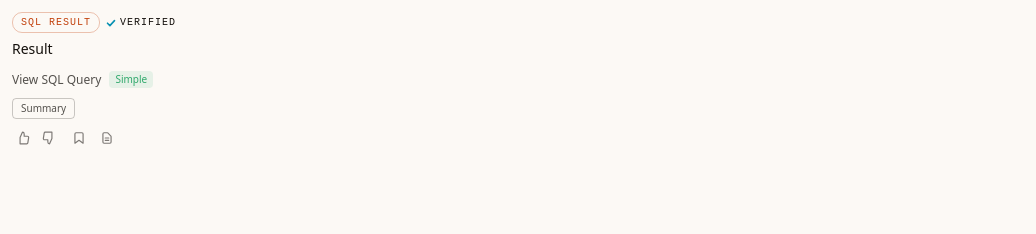
Test: ChatMessage › shows SQL query block when present
The image size is (1036, 234).
Click the heading "View SQL Query Simple" at coordinates (83, 80), box [12, 71, 153, 88]
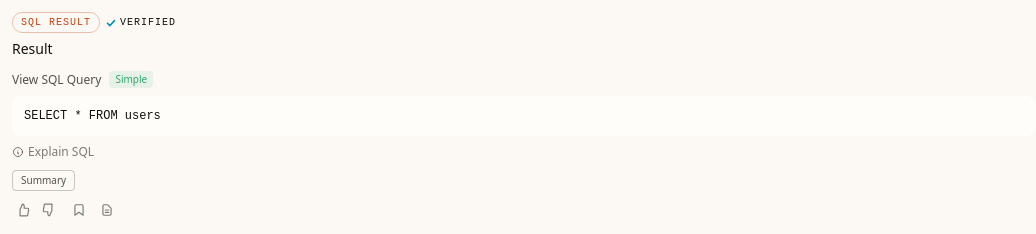
expect the text "SELECT * FROM users" is shown: met, box [12, 96, 1035, 136]
